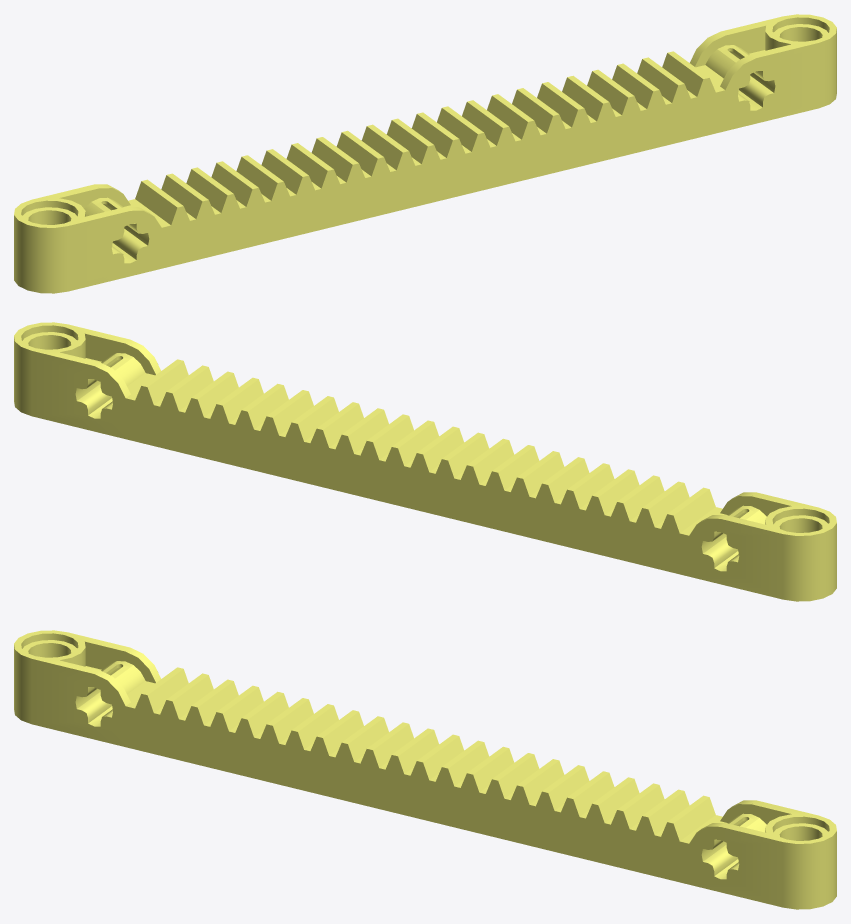
3 views of the same model, one above another, from view 1: azimuth 30°, elevation 25°; view 2: azimuth 150°, elevation 25°; view 3: azimuth 330°, elevation 25° (orthographic).
Visible parts, largest first — view 1: 64781.dat; view 2: 64781.dat; view 3: 64781.dat.
Boxes of the visible parts, left/top/right/bottom form: 64781.dat: left=14, top=14, right=836, bottom=293; 64781.dat: left=14, top=322, right=836, bottom=601; 64781.dat: left=14, top=630, right=836, bottom=909.
Size of the model in its own units: 0.104 by 0.008 by 0.008.
